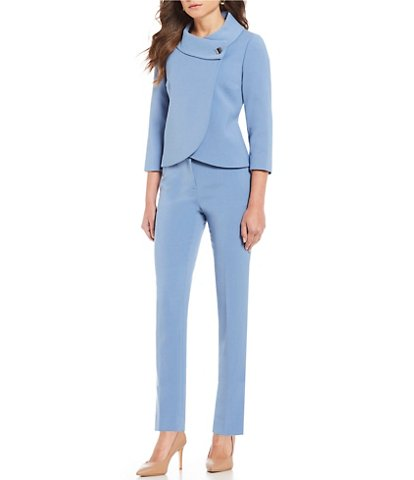feet: (127, 412, 254, 478)
